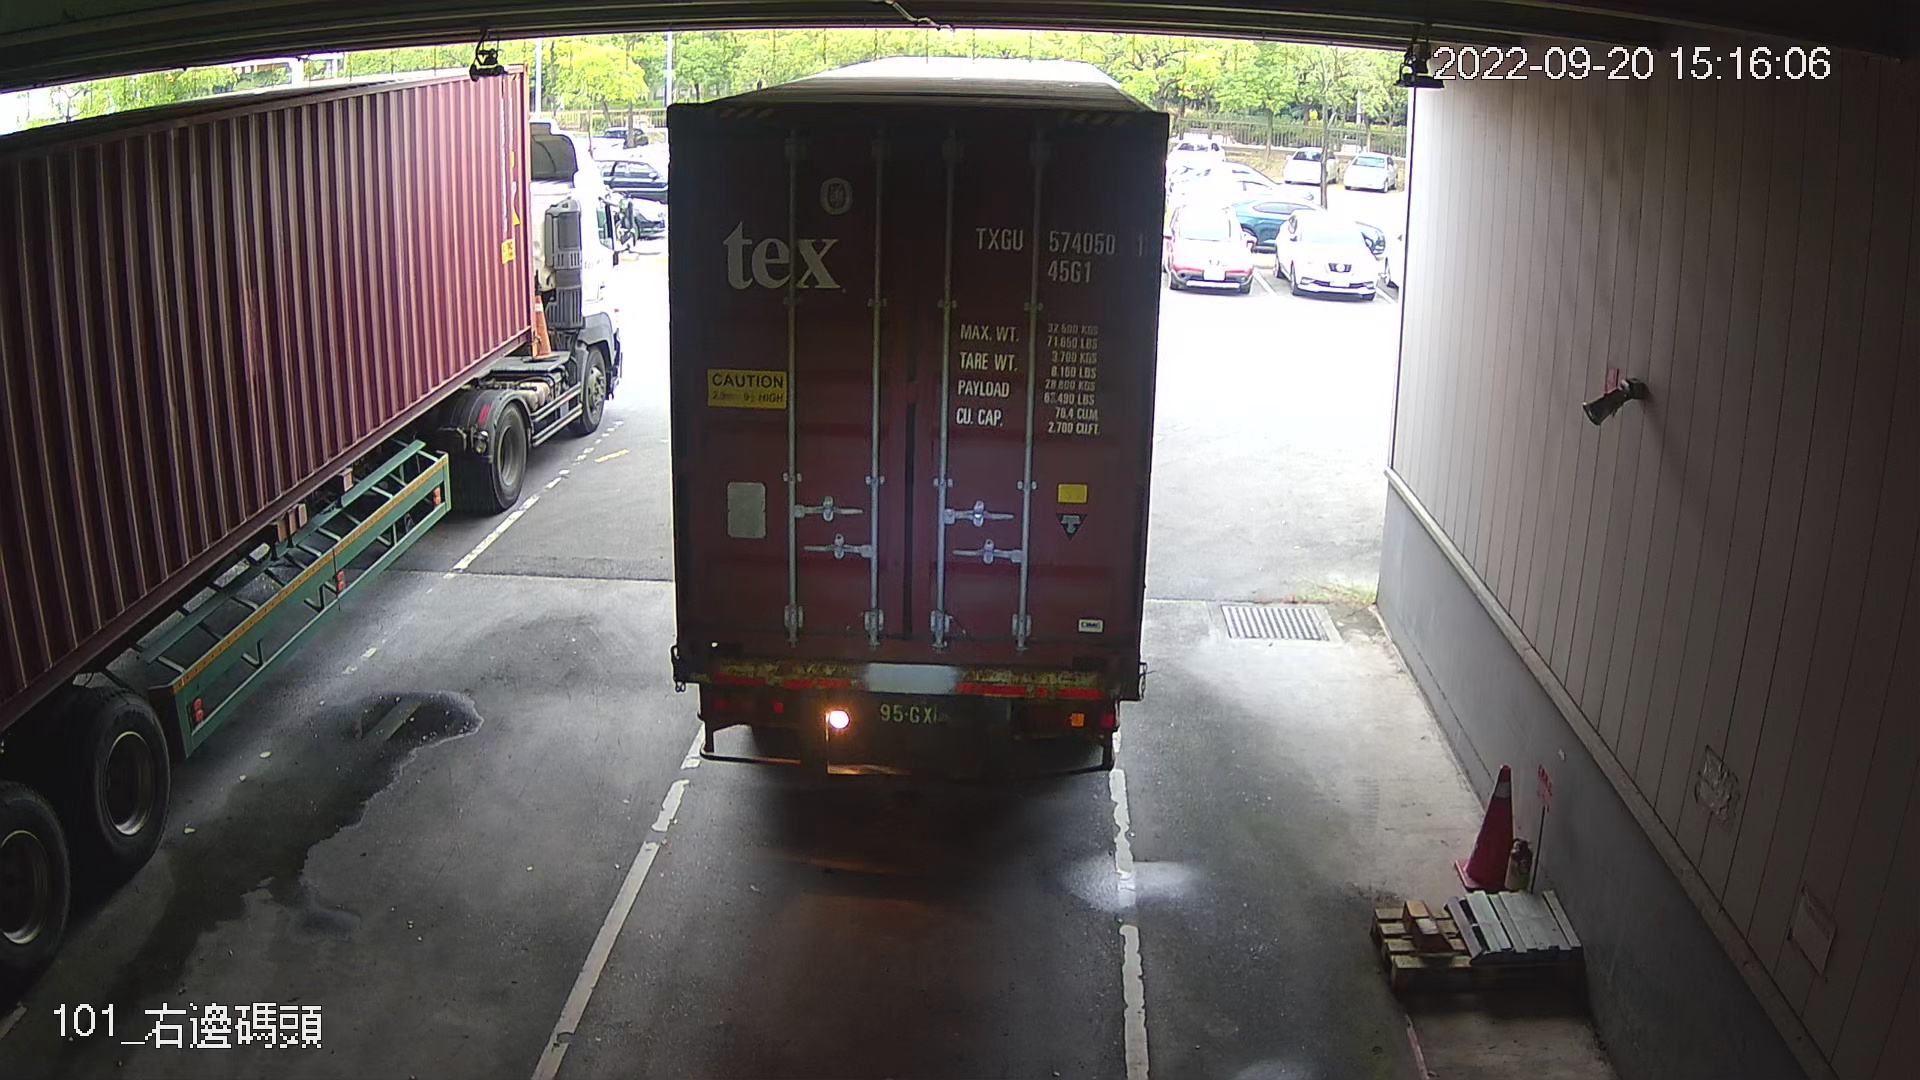container: (972, 214, 1151, 291)
